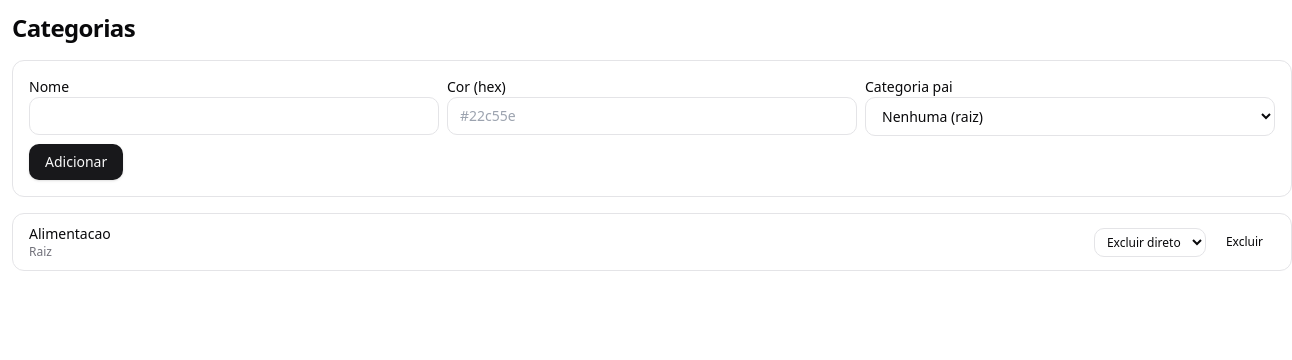
Test: CategoriesManager - task 4.8 › excluir categoria some da listagem
Expected: the text "Alimentacao" is shown, [29,224,111,244]
What coordinates should you click on to do the following:
click the button with aria-label "Excluir Alimentacao"
I would click on:
 (1244, 242)
Its box is [1214,226,1275,258].
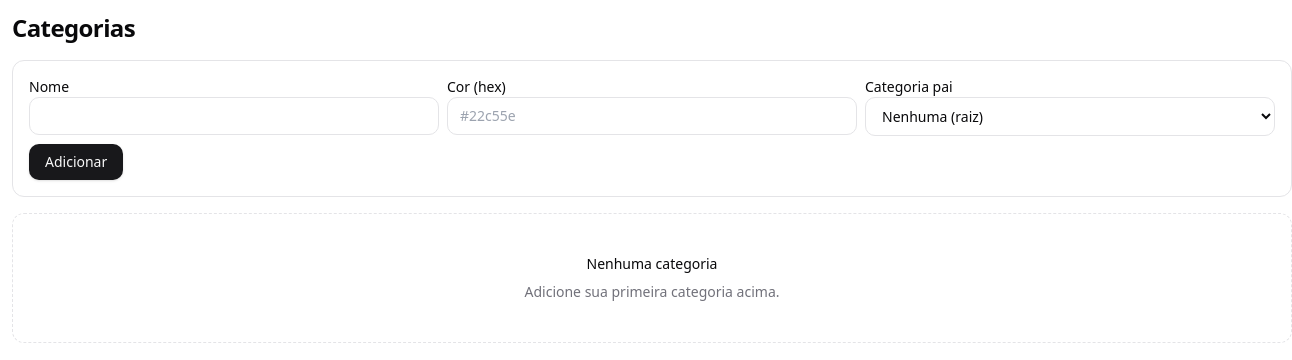
Expected: the text "Nenhuma categoria" is shown, [586,254,717,274]
